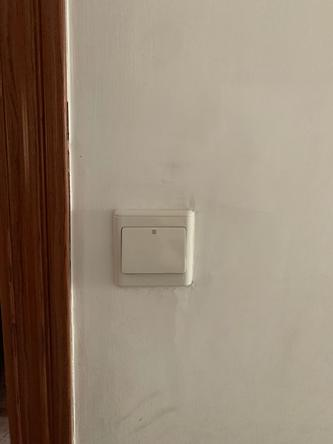switch: (118, 220, 190, 280)
